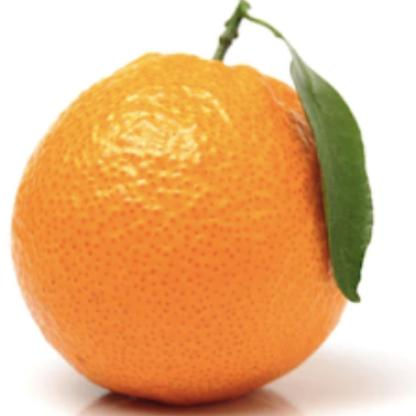fresh: (15, 51, 363, 402)
